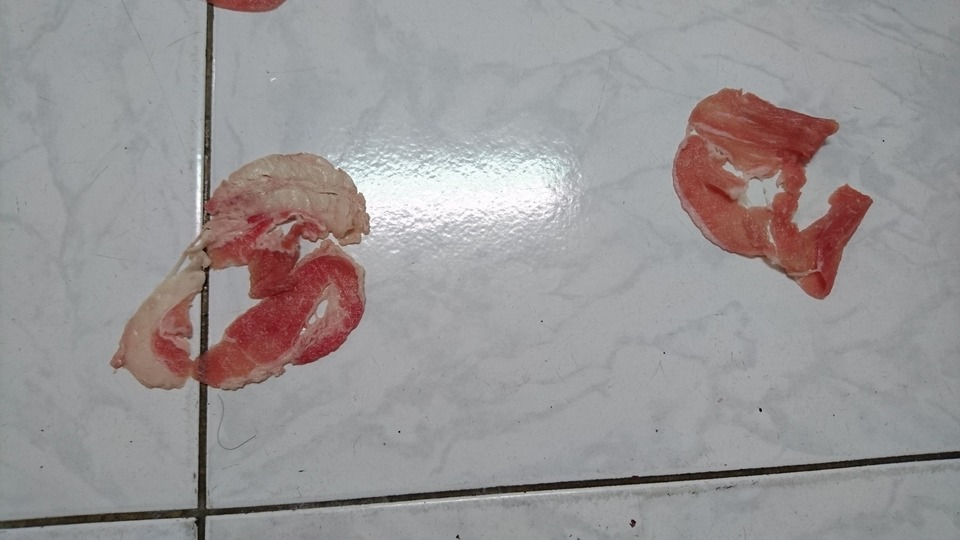restructured meat: (106, 149, 372, 397), (674, 85, 877, 304)
